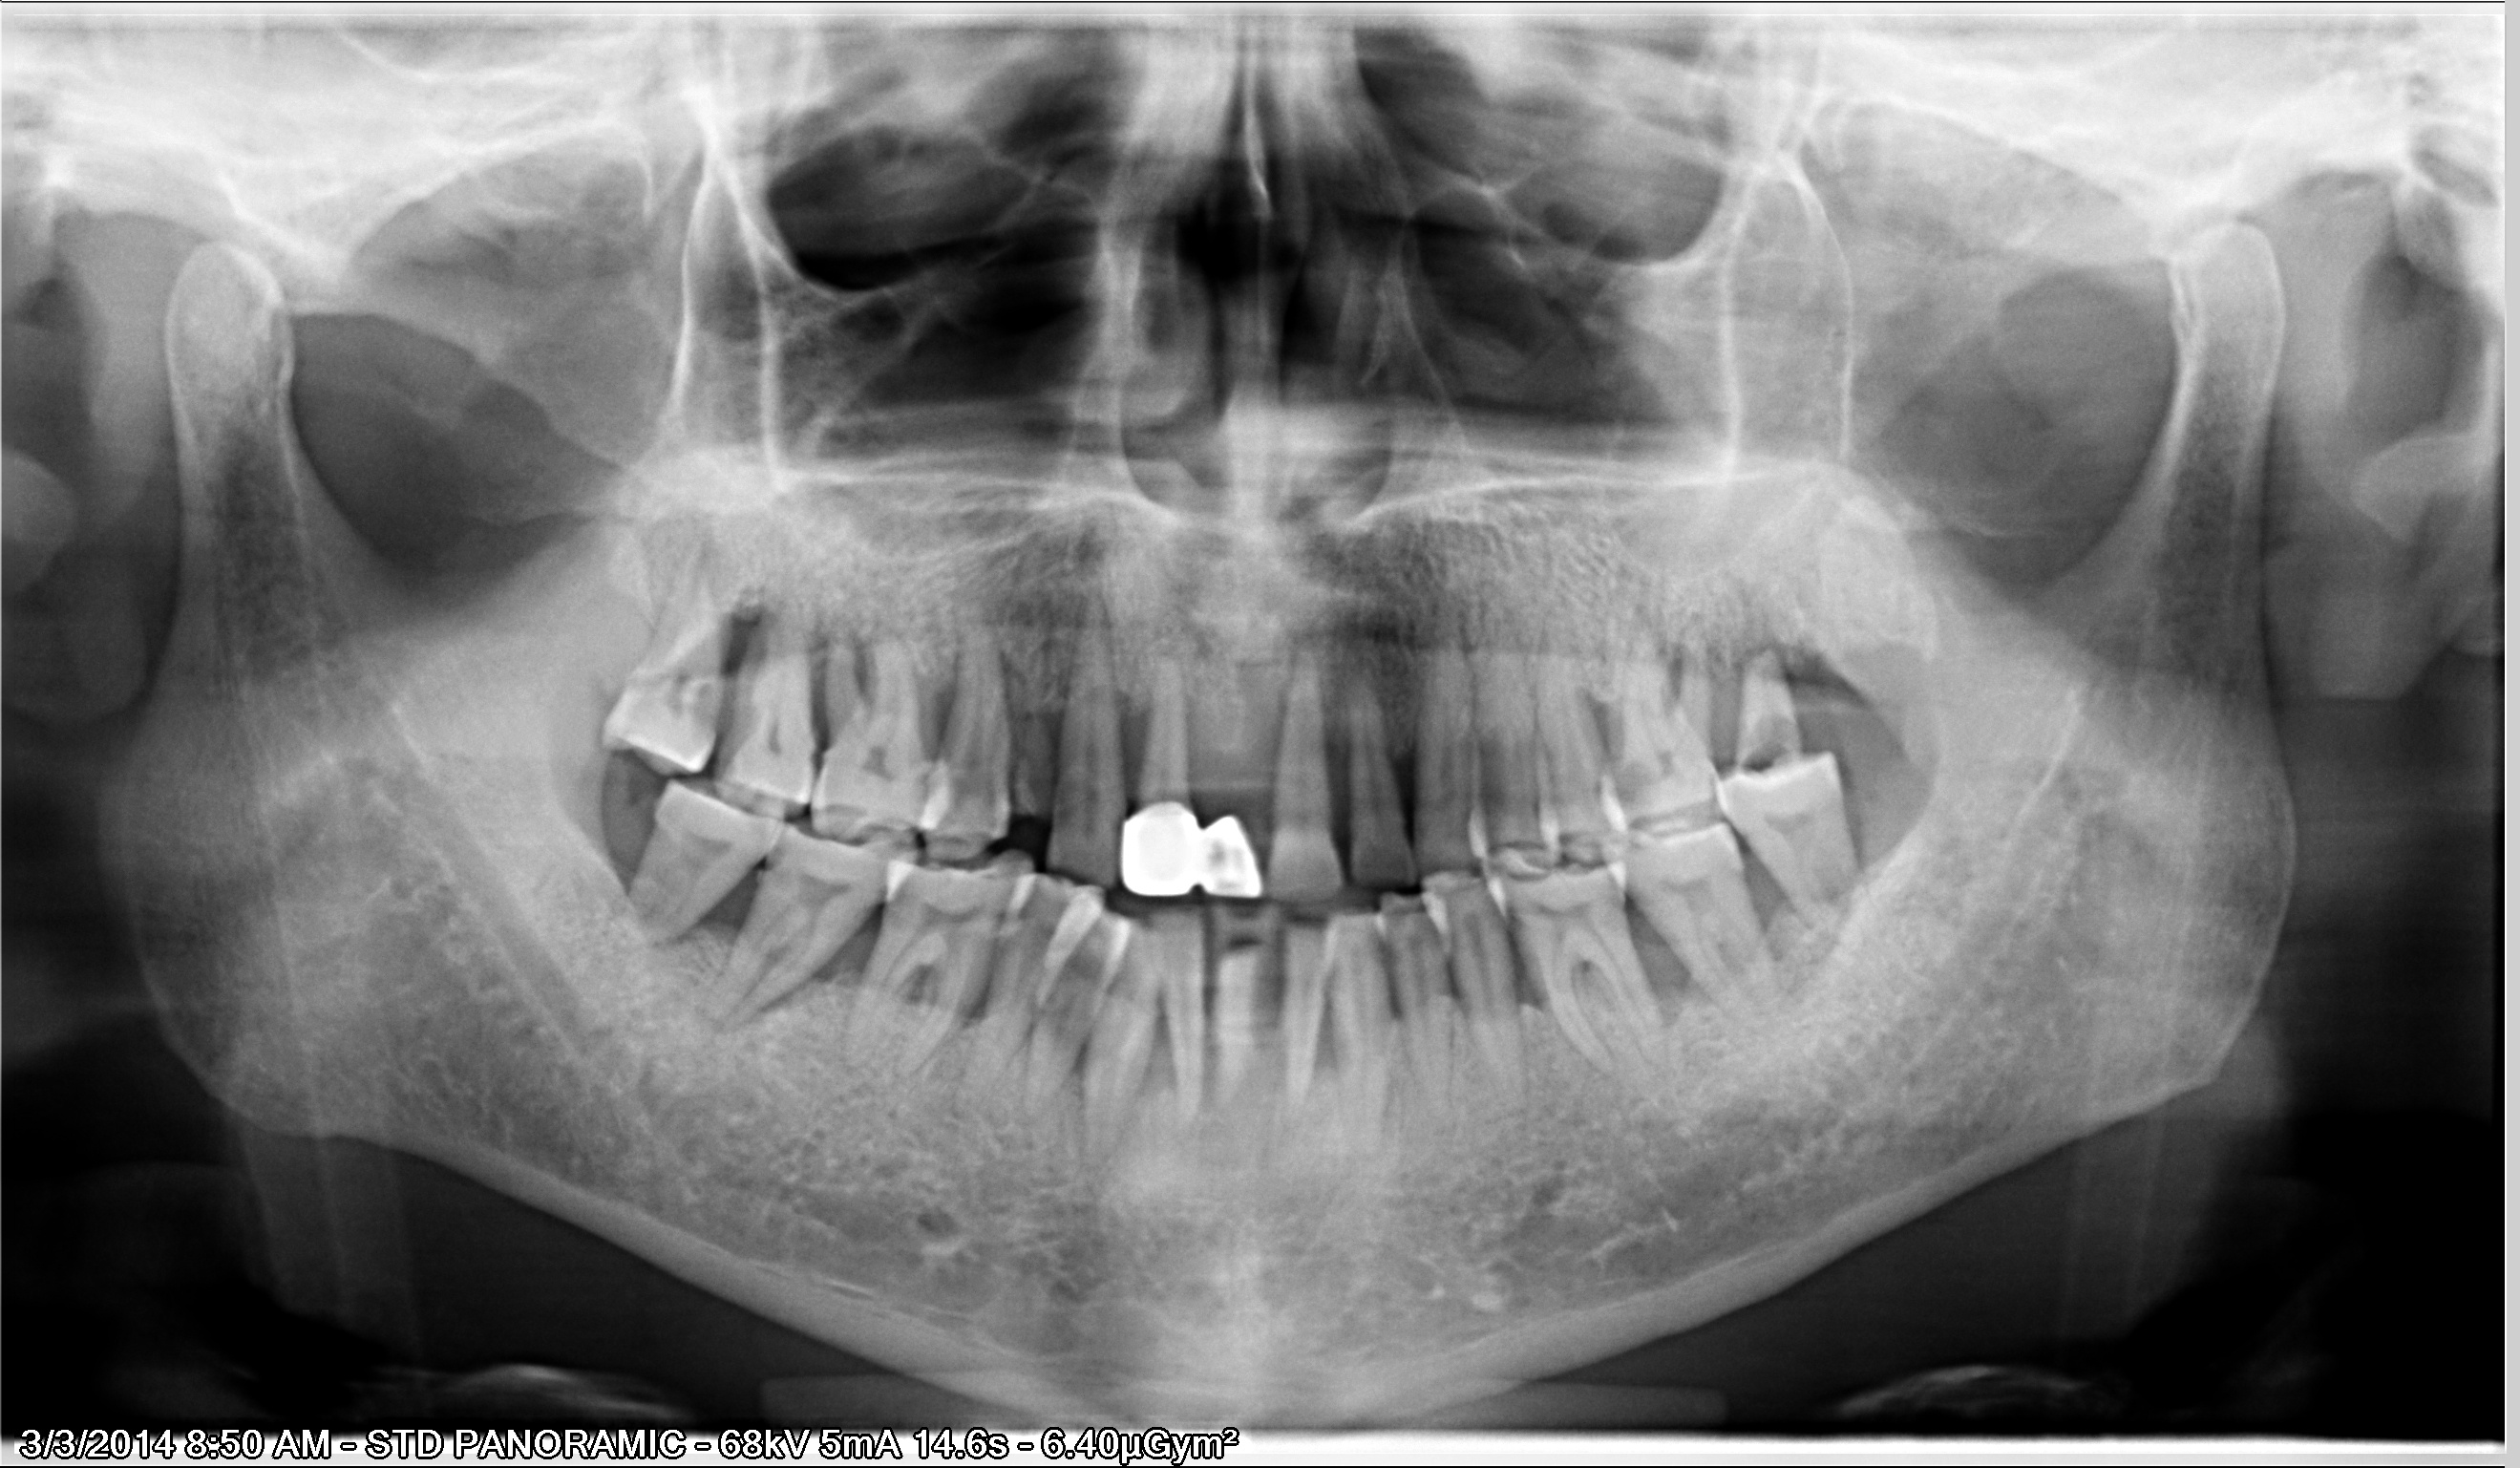CAR: (1598, 744, 1657, 809), (906, 744, 952, 814), (1490, 897, 1539, 945), (1589, 874, 1642, 917)
FUR: (1565, 944, 1615, 1014), (899, 958, 933, 1022), (761, 926, 800, 977)
IMT: (761, 938, 882, 1026), (1732, 869, 1818, 961), (674, 881, 775, 949), (1636, 944, 1704, 1033), (1320, 701, 1355, 821), (1385, 704, 1423, 807), (1111, 669, 1149, 772), (1504, 963, 1556, 1029), (1310, 989, 1348, 1073), (1264, 984, 1298, 1073), (1146, 1010, 1179, 1098)
OBT: (1114, 792, 1256, 909)
ROT: (1725, 626, 1816, 786), (1004, 671, 1058, 832)
